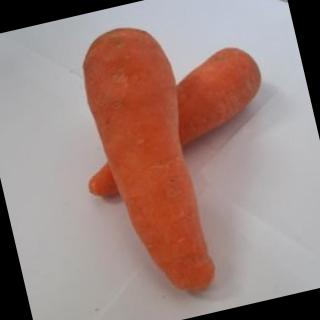Wortel: (73, 17, 225, 308)
